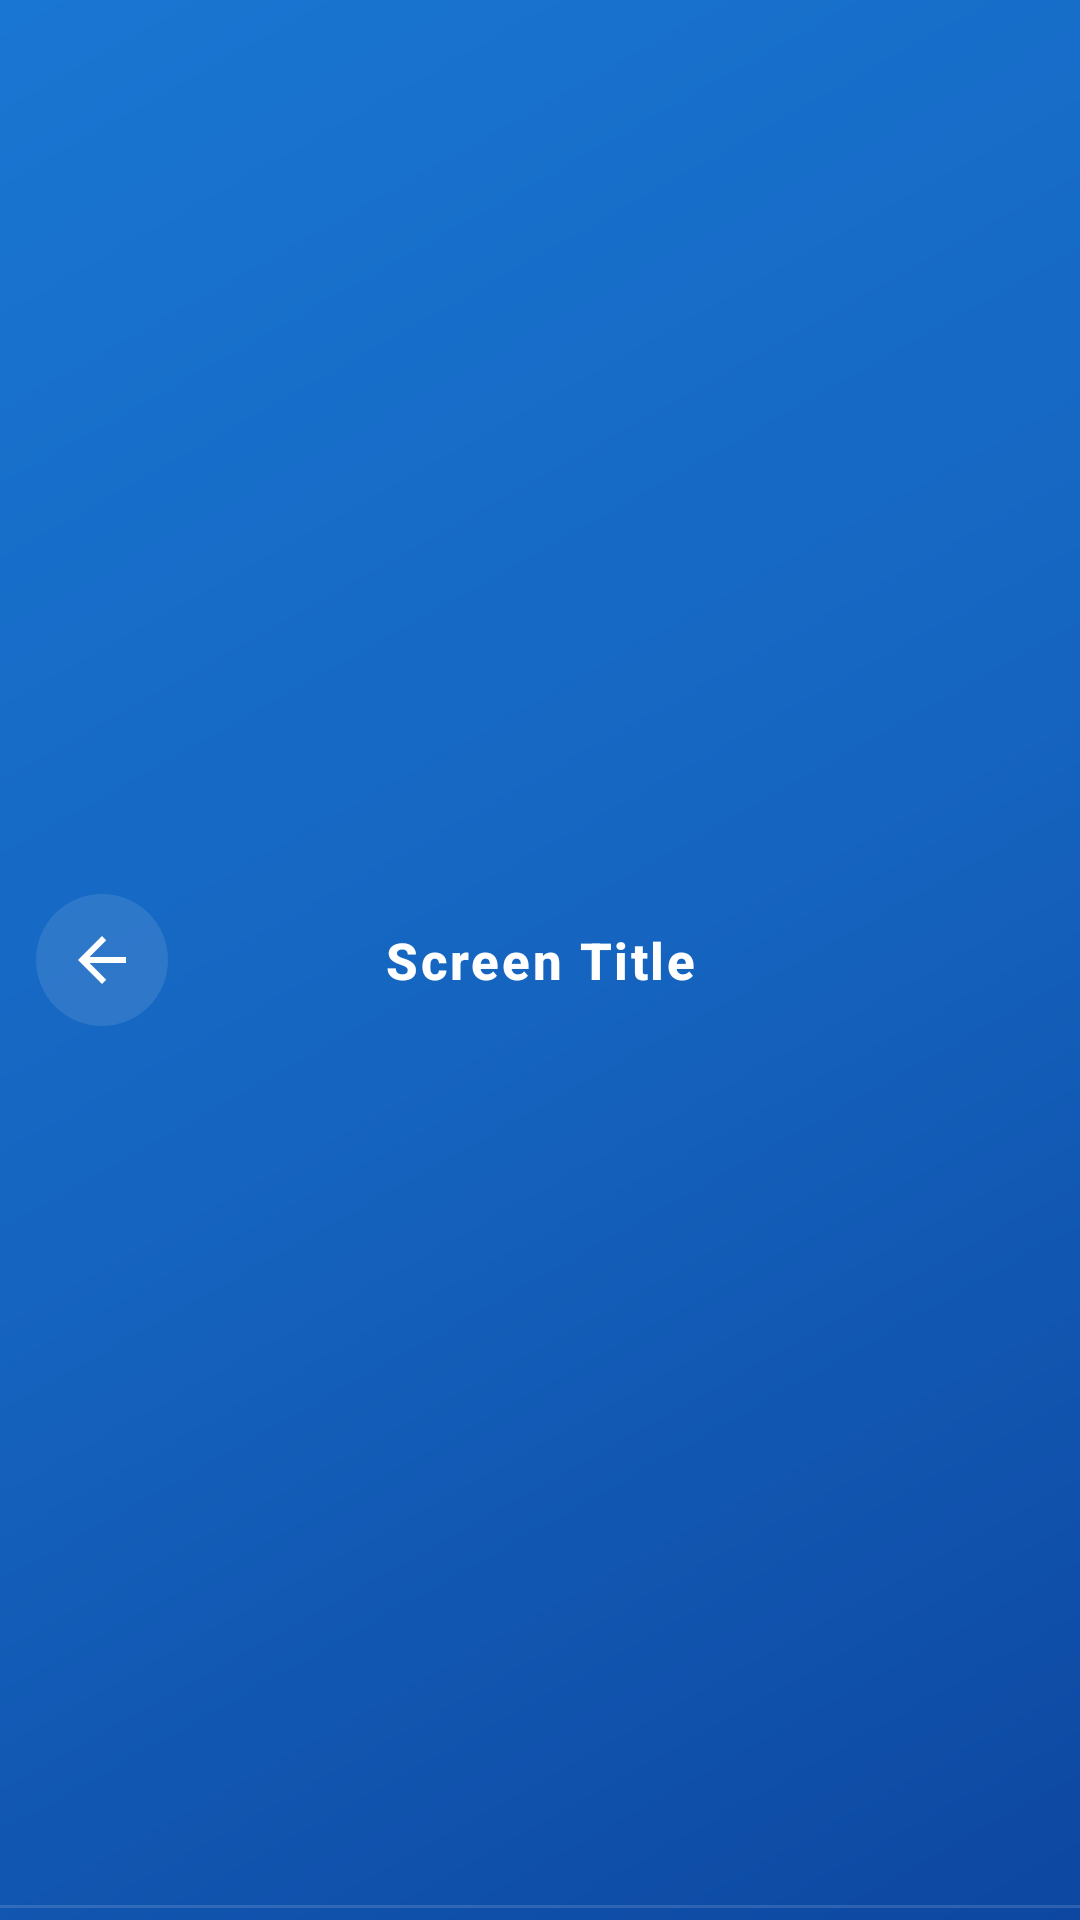

Where icons sit on this 1080×1920 app screen, as (x1, y1, x2, y2):
Back: (36, 894, 168, 1026)
